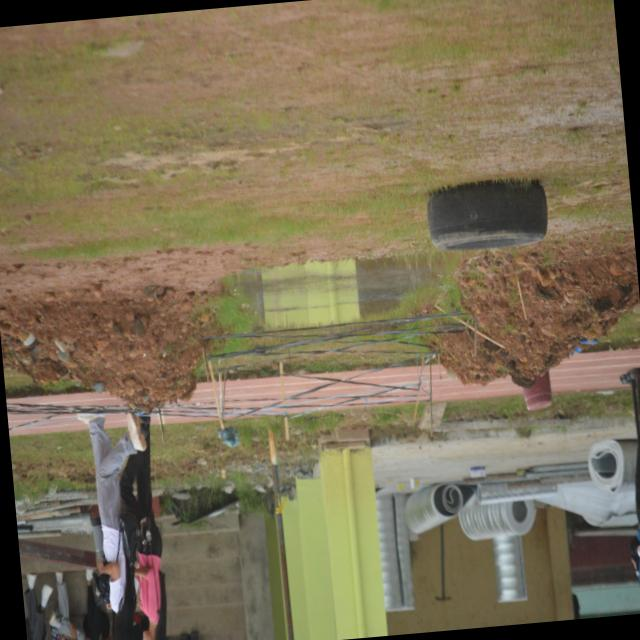person: (77, 412, 145, 639), (119, 415, 166, 639), (49, 571, 83, 639), (82, 568, 110, 639), (24, 573, 52, 639), (179, 631, 198, 639)
